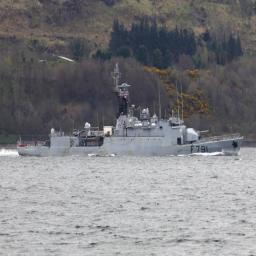Fragata: (16, 62, 246, 159)
